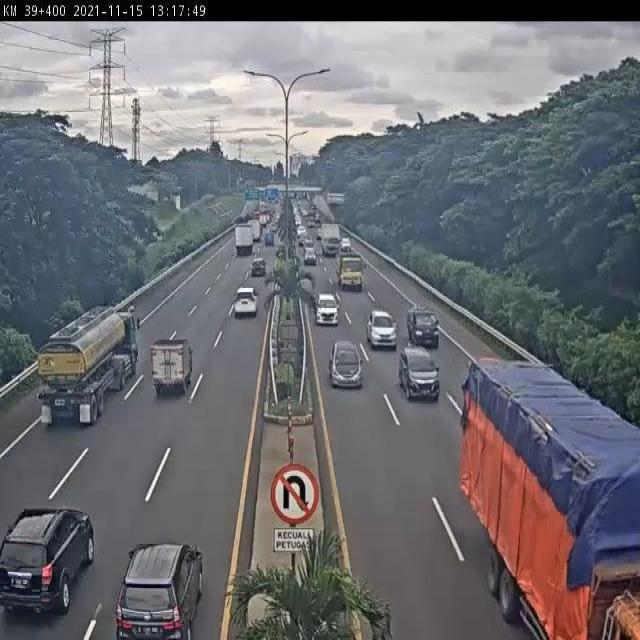car: (0, 507, 95, 620), (116, 542, 203, 640), (398, 345, 440, 400), (329, 339, 363, 388), (367, 308, 396, 349), (235, 285, 260, 319), (317, 292, 340, 325)
truck: (461, 354, 640, 640), (35, 304, 142, 427), (150, 337, 194, 395), (407, 305, 440, 351), (337, 252, 368, 293)
